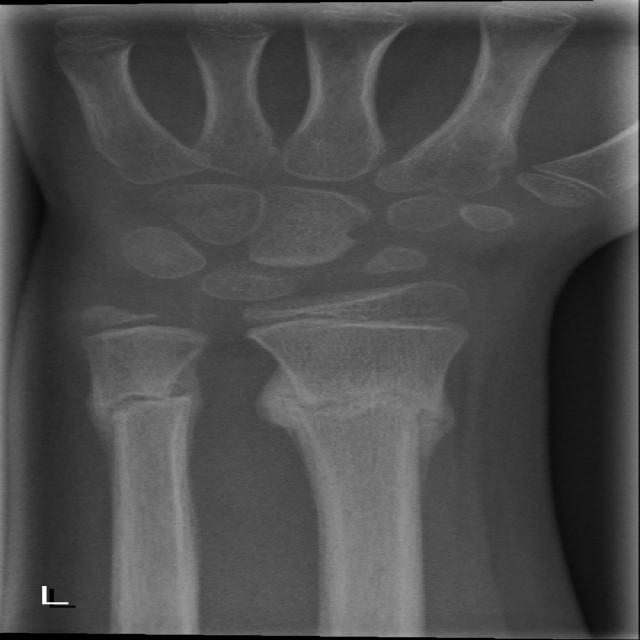radius fracture: (214, 357, 472, 490)
ulna fracture: (45, 358, 253, 491)
